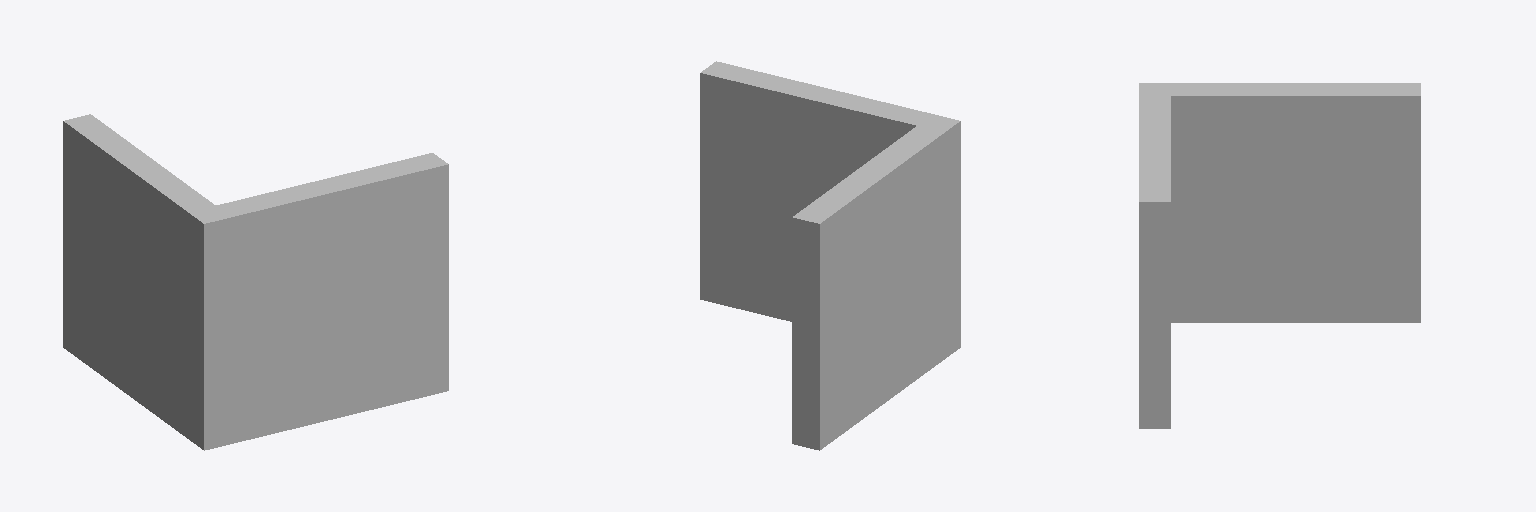
The model's file is wall_corner.obj.
The picture shows the model from 3 angles: view 1: azimuth 30°, elevation 25°; view 2: azimuth 150°, elevation 25°; view 3: azimuth 270°, elevation 25°; orthographic projection.
Parts seen in each view (by area): view 1: WallCorner_Cube.004; view 2: WallCorner_Cube.004; view 3: WallCorner_Cube.004.
Boxes of the visible parts, <box> form: WallCorner_Cube.004: <box>63,114,448,450</box>; WallCorner_Cube.004: <box>700,61,960,450</box>; WallCorner_Cube.004: <box>1139,83,1420,428</box>.
Bounding box in the file's own units: 2.26 × 2 × 2.25.